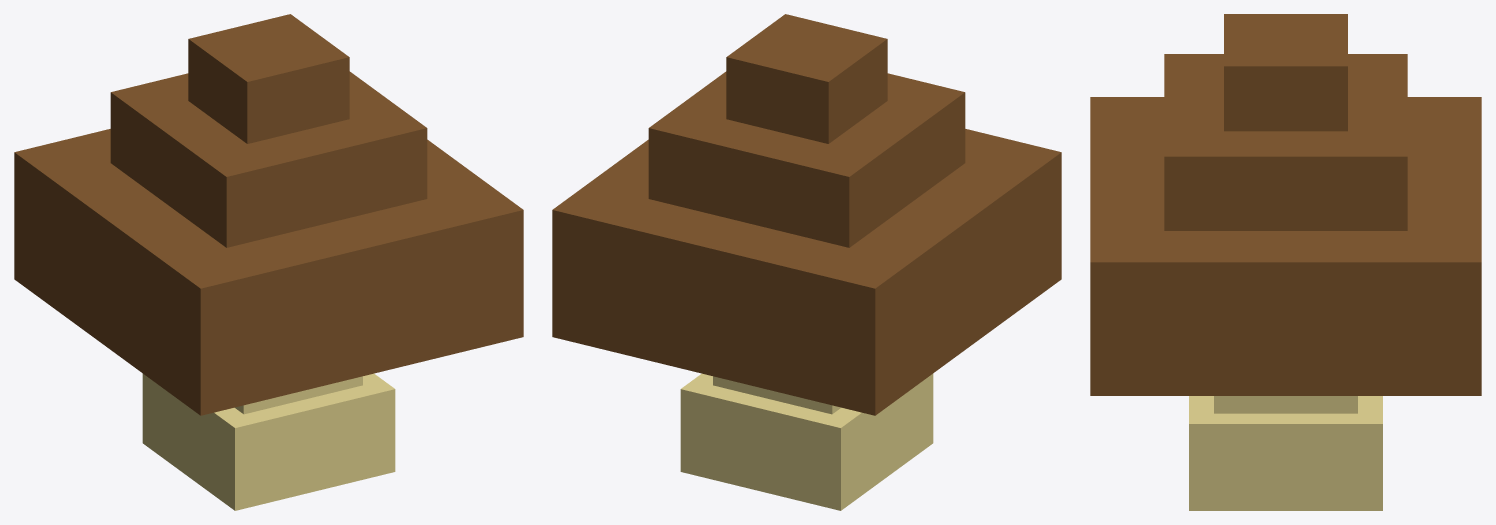
Rendered from Mushroom Brown.glb.
3 renders of one model, left to right at view 1: azimuth 30°, elevation 25°; view 2: azimuth 150°, elevation 25°; view 3: azimuth 270°, elevation 25°, orthographic. The views are drawn at different scales.
Visible parts, largest first — view 1: Cube.001, Cube.004; view 2: Cube.001, Cube.004; view 3: Cube.001, Cube.004.
Part boxes in pixels (bbox=[...]): Cube.001: bbox=[14, 14, 523, 415]; Cube.004: bbox=[142, 373, 395, 510]; Cube.001: bbox=[552, 14, 1061, 415]; Cube.004: bbox=[680, 373, 933, 510]; Cube.001: bbox=[1090, 14, 1481, 395]; Cube.004: bbox=[1189, 396, 1382, 510].
Size of the model in its own units: 0.2868 by 0.3491 by 0.2868.
